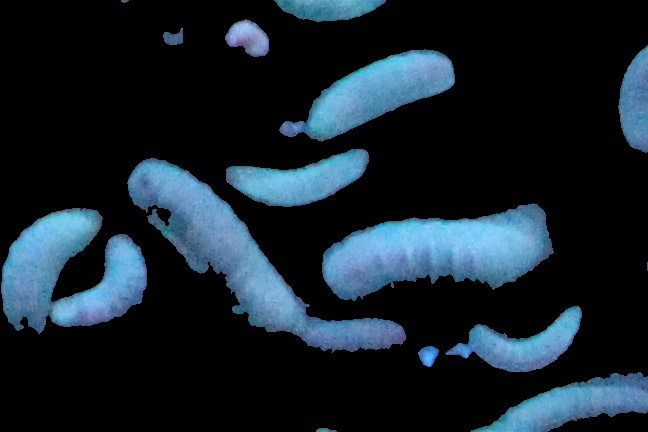larvae: (114, 173, 317, 333), (324, 217, 548, 293), (1, 204, 99, 347), (302, 51, 459, 137), (53, 238, 153, 336), (482, 381, 641, 432), (466, 306, 588, 369), (224, 149, 372, 200), (291, 316, 416, 362), (620, 46, 648, 154)
